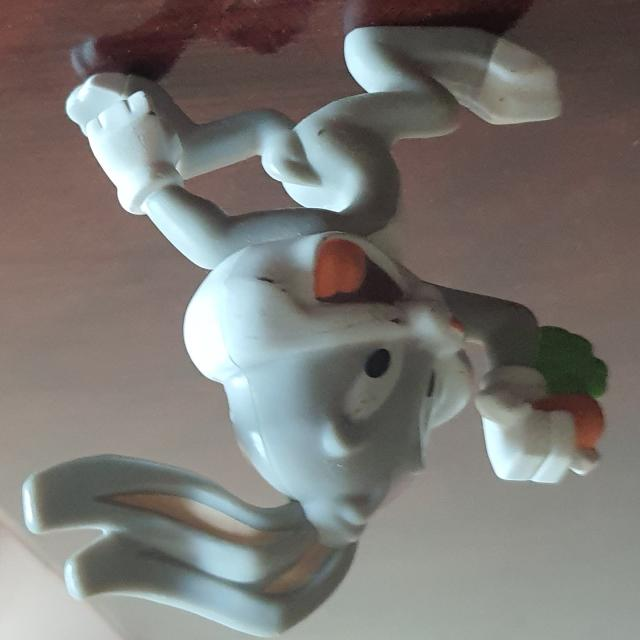Rabbit: (21, 24, 609, 638)
